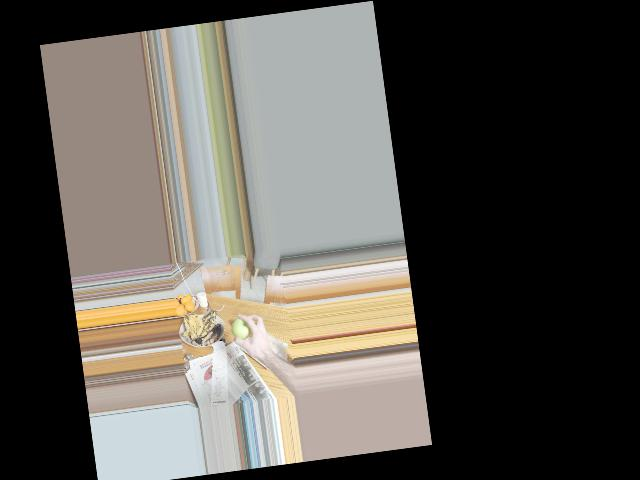apple: (230, 313, 255, 343)
